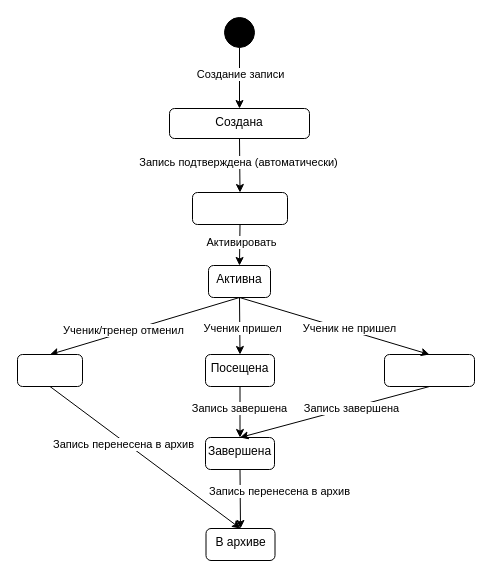
Some shapes in this 492 by 578 pixel diagram are drawn without their labels. Each missing label, with the box of its shape:
Не посещена: (384, 354, 474, 386)
Отменена: (16, 354, 82, 386)
Подтверждена: (192, 192, 288, 224)
